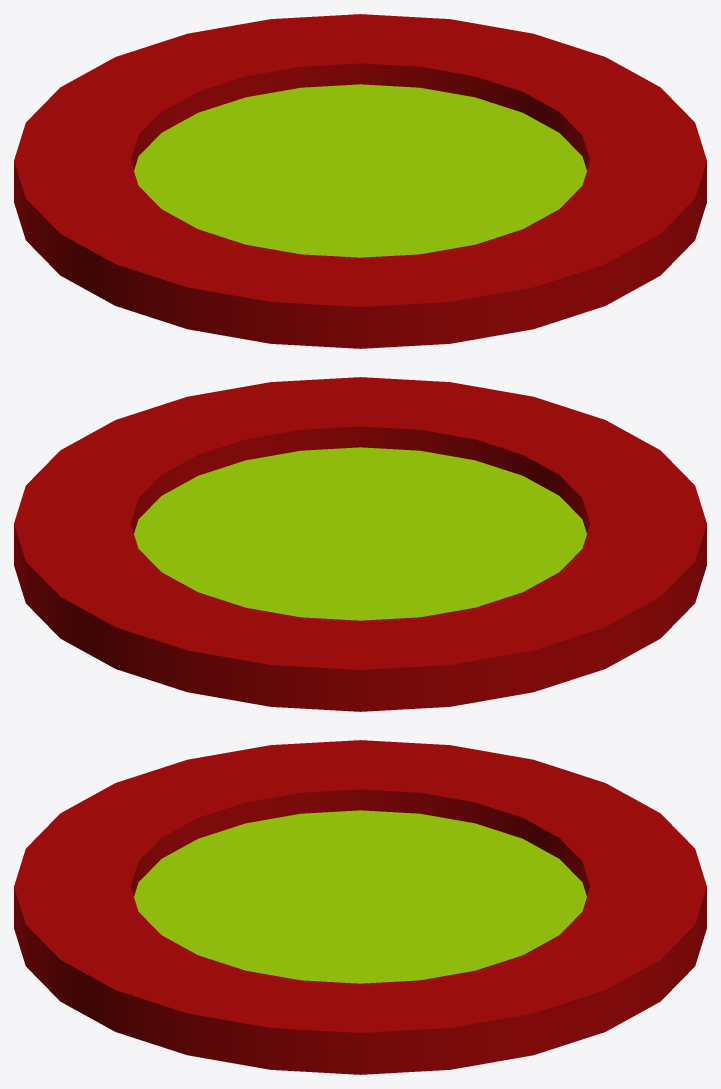
The model's file is CountermeasurePacket.glb.
3 views of the same model, one above another, from view 1: azimuth 30°, elevation 25°; view 2: azimuth 150°, elevation 25°; view 3: azimuth 270°, elevation 25° (orthographic).
Parts seen in each view (by area): view 1: window_round; view 2: window_round; view 3: window_round.
Part boxes in pixels (<box>): window_round: <box>14,14,706,348</box>; window_round: <box>14,377,706,711</box>; window_round: <box>14,740,706,1074</box>.
Bounding box in the file's own units: 0.3 × 0.02 × 0.3.
